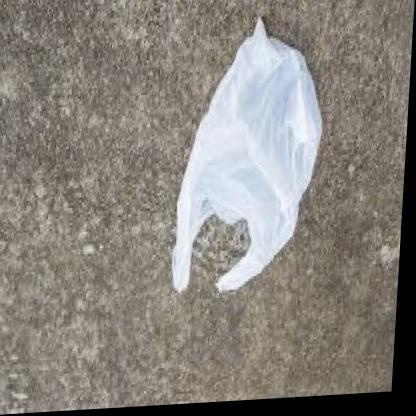trash: (172, 17, 321, 291)
